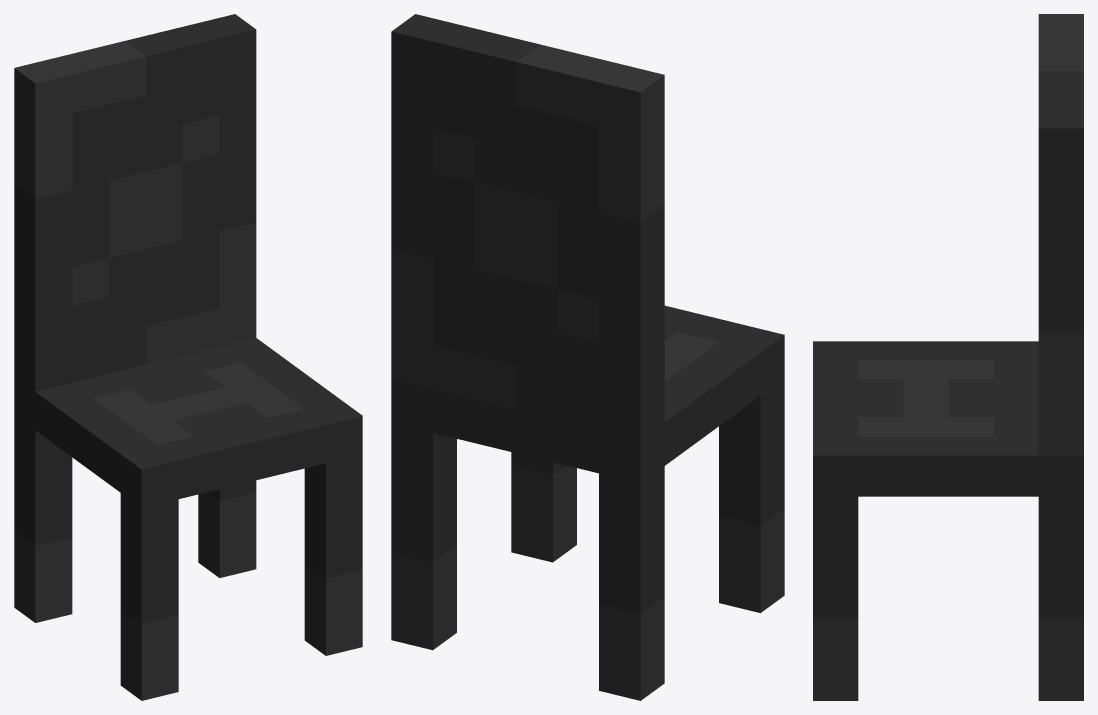
Rendered from Decor-77.obj.
The picture shows the model from 3 angles, left to right: view 1: azimuth 30°, elevation 25°; view 2: azimuth 150°, elevation 25°; view 3: azimuth 270°, elevation 25°; orthographic projection. The views are drawn at different scales.
Size of the model in its own units: 0.6 by 1.4 by 0.6.
Materials: 1 (1 with a texture image).
